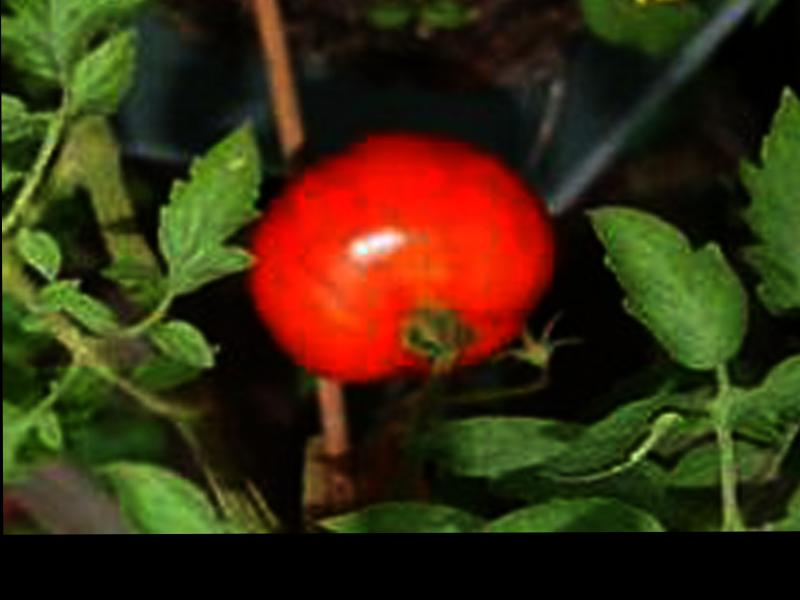Tomato: (241, 134, 561, 386)
